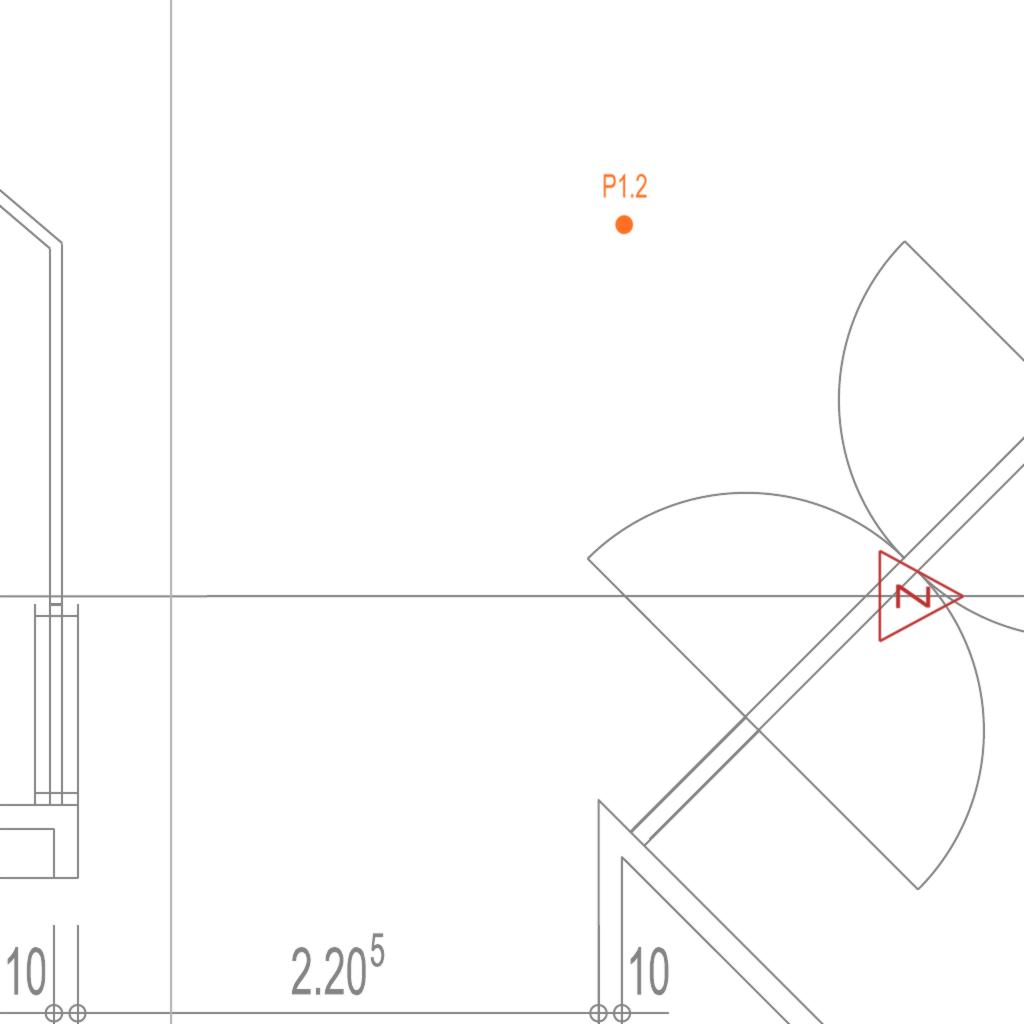Downlight_LED_Einbauleuchten_Flur: (602, 172, 648, 236)
Zimmersignalleuchte: (871, 546, 971, 644)
